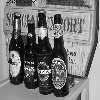beer: (9, 12, 24, 87)
